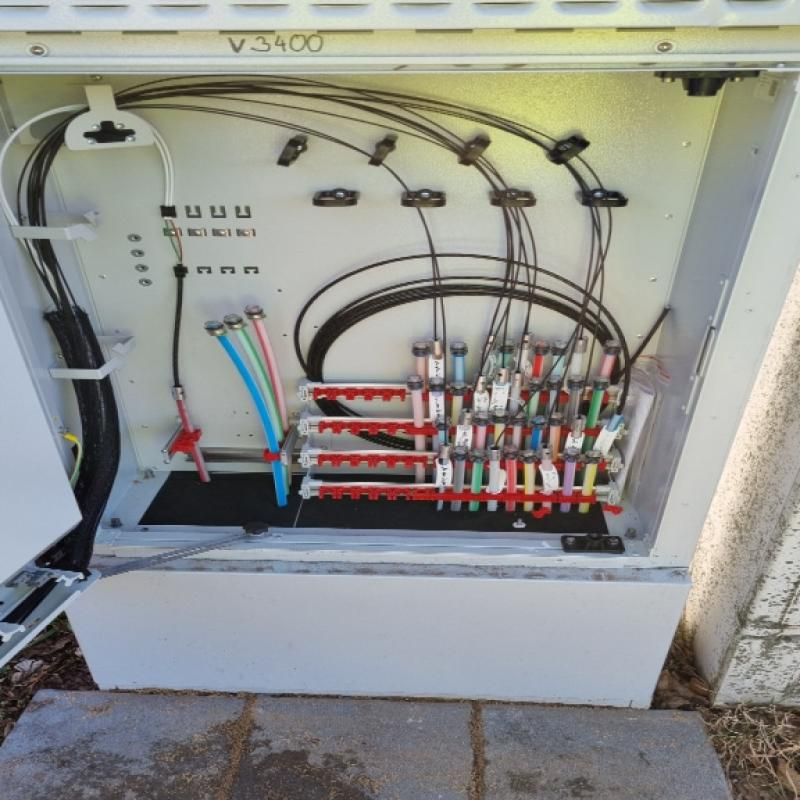NT-Gehause: (0, 0, 796, 721)
